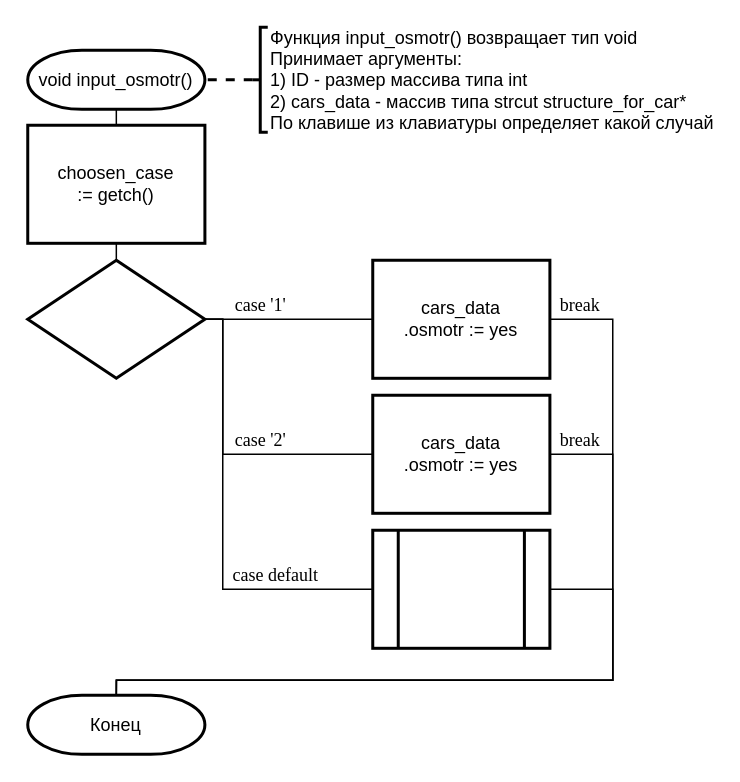
Image size: 740x782. Some labels were removed from this diagram. The shapes that lost their labels are listed below. From the top down, each one's box as (x1, y1, x2, y2) in pixels, then its label:
(26, 258, 206, 379): choosen_case
(370, 528, 551, 649): input_osmotr (ID, cars_data)
